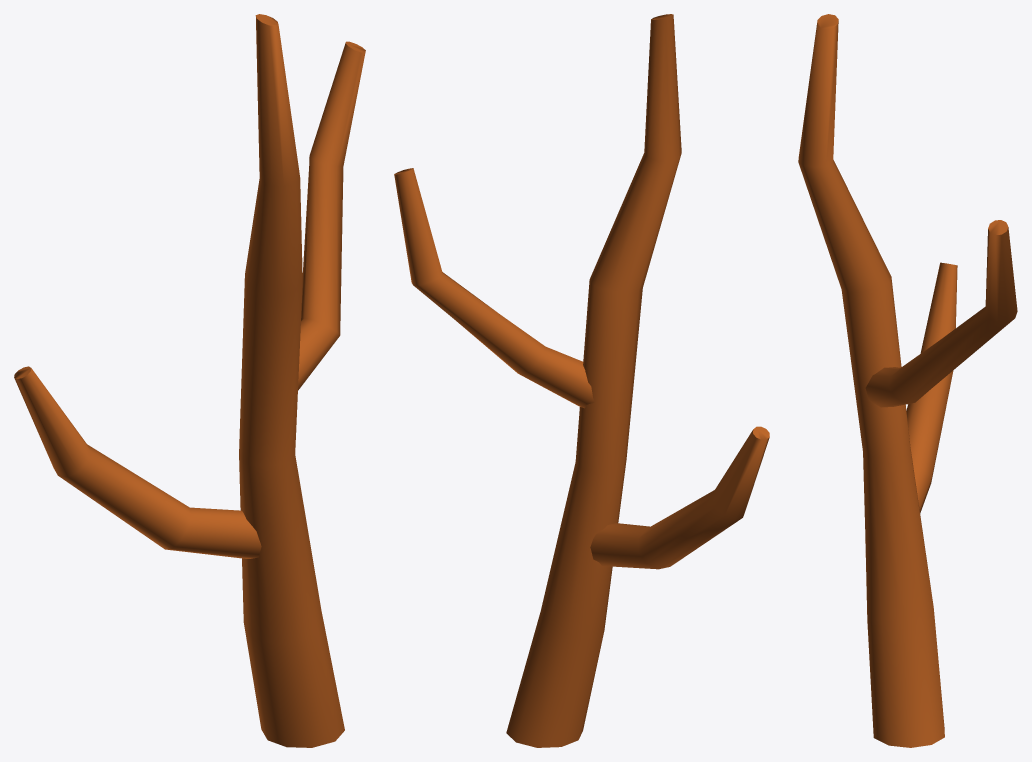
The model's file is TreeTrunk_12.fbx.
3 renders of one model, left to right at view 1: azimuth 30°, elevation 25°; view 2: azimuth 150°, elevation 25°; view 3: azimuth 270°, elevation 25°, orthographic. The views are drawn at different scales.
Visible parts, largest first — view 1: TreeTrunk_12; view 2: TreeTrunk_12; view 3: TreeTrunk_12.
Part boxes in pixels (left/top/right/bottom): TreeTrunk_12: left=14, top=14, right=365, bottom=747; TreeTrunk_12: left=394, top=14, right=769, bottom=747; TreeTrunk_12: left=798, top=14, right=1017, bottom=747.
Size of the model in its own units: 160 by 312 by 91.14.
